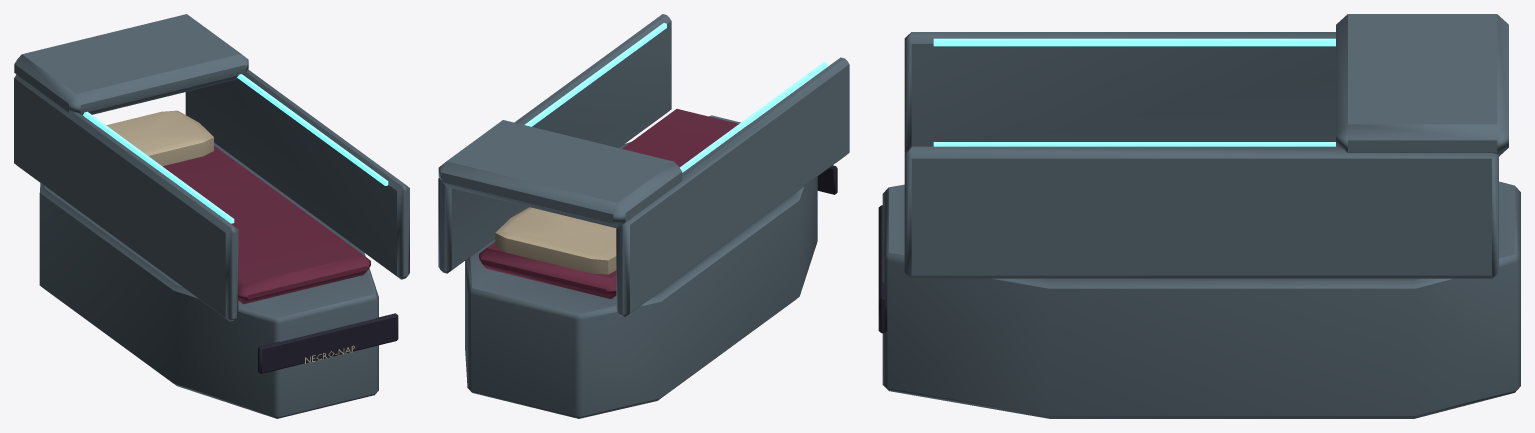
File: pod_nap.glb
3 views of the same model, side by side, from view 1: azimuth 30°, elevation 25°; view 2: azimuth 150°, elevation 25°; view 3: azimuth 270°, elevation 25° (orthographic). The views are drawn at different scales.
Parts seen in each view (by area): view 1: pod_nap, door, glow; view 2: pod_nap, door, glow; view 3: pod_nap, door, glow.
Boxes of the visible parts, <box> form: pod_nap: <box>14,69,409,418</box>; door: <box>14,14,248,115</box>; glow: <box>83,74,388,223</box>; pod_nap: <box>438,14,849,418</box>; door: <box>438,120,682,228</box>; glow: <box>524,23,827,172</box>; pod_nap: <box>878,32,1520,418</box>; door: <box>1336,14,1508,156</box>; glow: <box>933,38,1335,146</box>.
Size of the model in its own units: 0.88 by 0.94 by 1.89.
